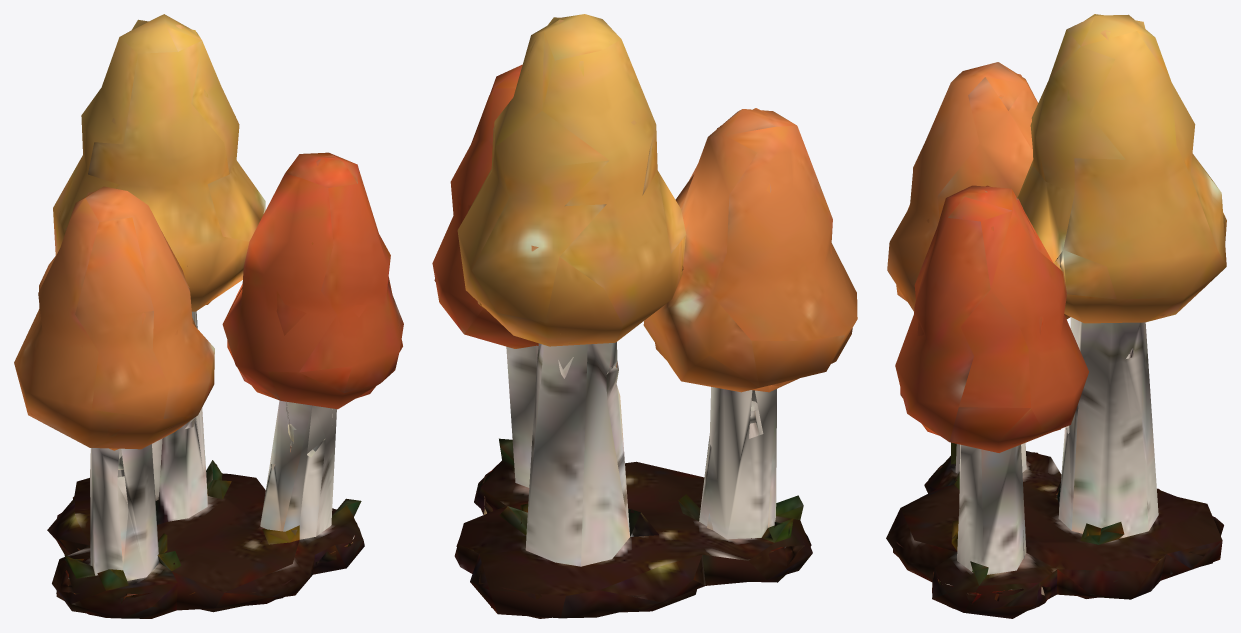
Rendered from x-tree-birch-cluster.glb.
The picture shows the model from 3 angles, left to right: view 1: azimuth 30°, elevation 25°; view 2: azimuth 150°, elevation 25°; view 3: azimuth 270°, elevation 25°; orthographic projection. The views are drawn at different scales.
Visible parts, largest first — view 1: geometry_0; view 2: geometry_0; view 3: geometry_0.
Boxes of the visible parts, x1,y1,x2,y2 form: geometry_0: (14,14,403,618); geometry_0: (432,14,857,618); geometry_0: (886,14,1226,618).
Size of the model in its own units: 0.7421 by 1 by 0.5767.
Materials: 1 (1 with a texture image).
